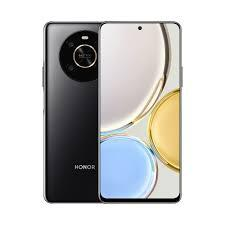Smartphone: (100, 22, 181, 202), (42, 21, 100, 201)
